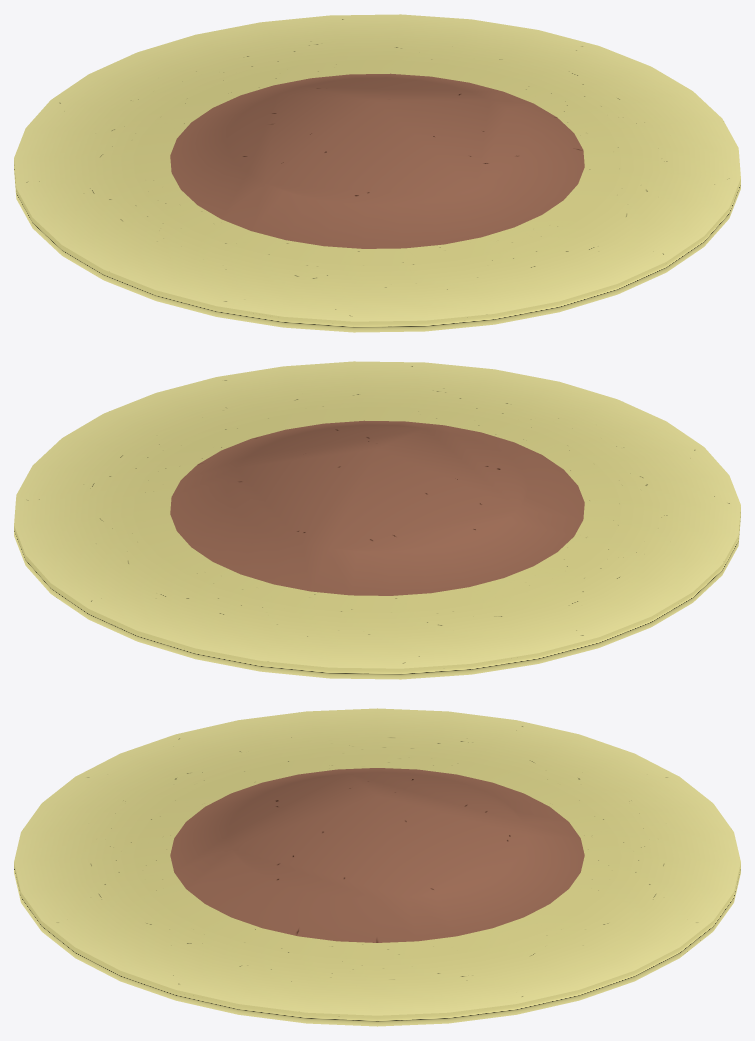
Rendered from island.fbx.
3 views of the same model, one above another, from view 1: azimuth 30°, elevation 25°; view 2: azimuth 150°, elevation 25°; view 3: azimuth 270°, elevation 25° (orthographic).
Visible parts, largest first — view 1: Cylinder; view 2: Cylinder; view 3: Cylinder.
Part boxes in pixels (x1,y1,x2,y2): Cylinder: (14, 14, 740, 332); Cylinder: (14, 361, 740, 679); Cylinder: (14, 708, 740, 1026).
Size of the model in its own units: 96042 by 11190 by 96042.
Materials: 1 (1 with a texture image).
